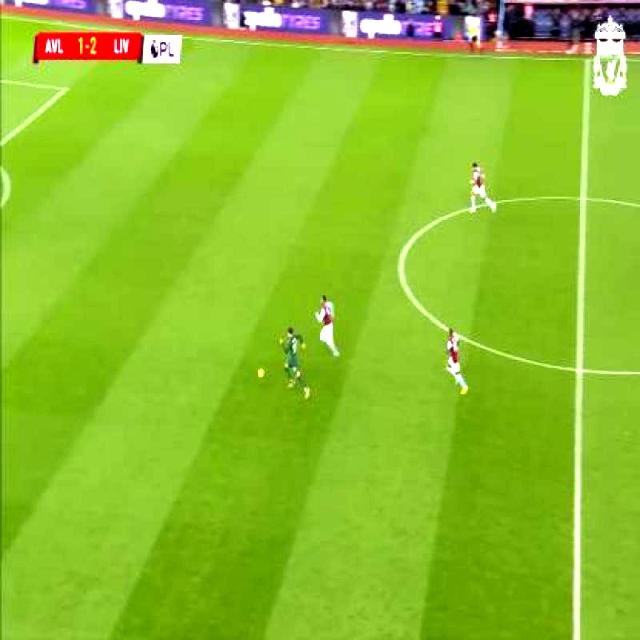bigarea_top_inner: (56, 70, 78, 108)
halfcircle_bottom: (564, 350, 594, 392)
halfcircle_top: (572, 180, 598, 220)
midline_top_intersection: (580, 44, 598, 76)
